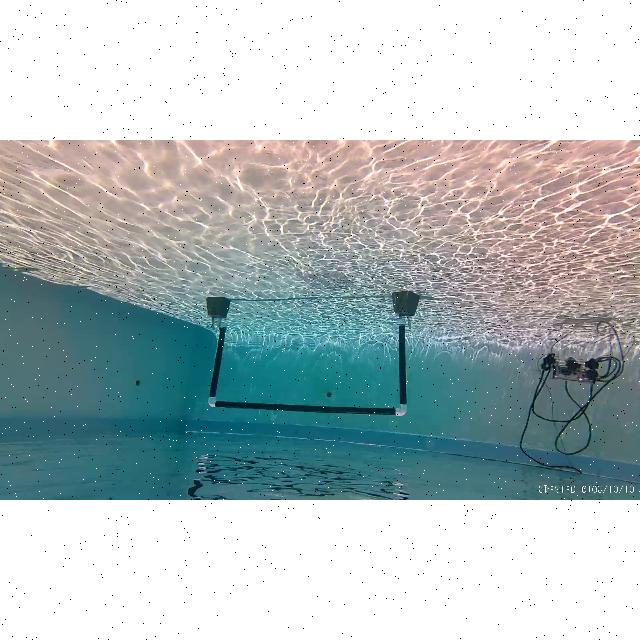prequal gate: (209, 319, 407, 417)
prequal gate leg l: (394, 318, 411, 418)
prequal gate leg r: (208, 318, 230, 408)
